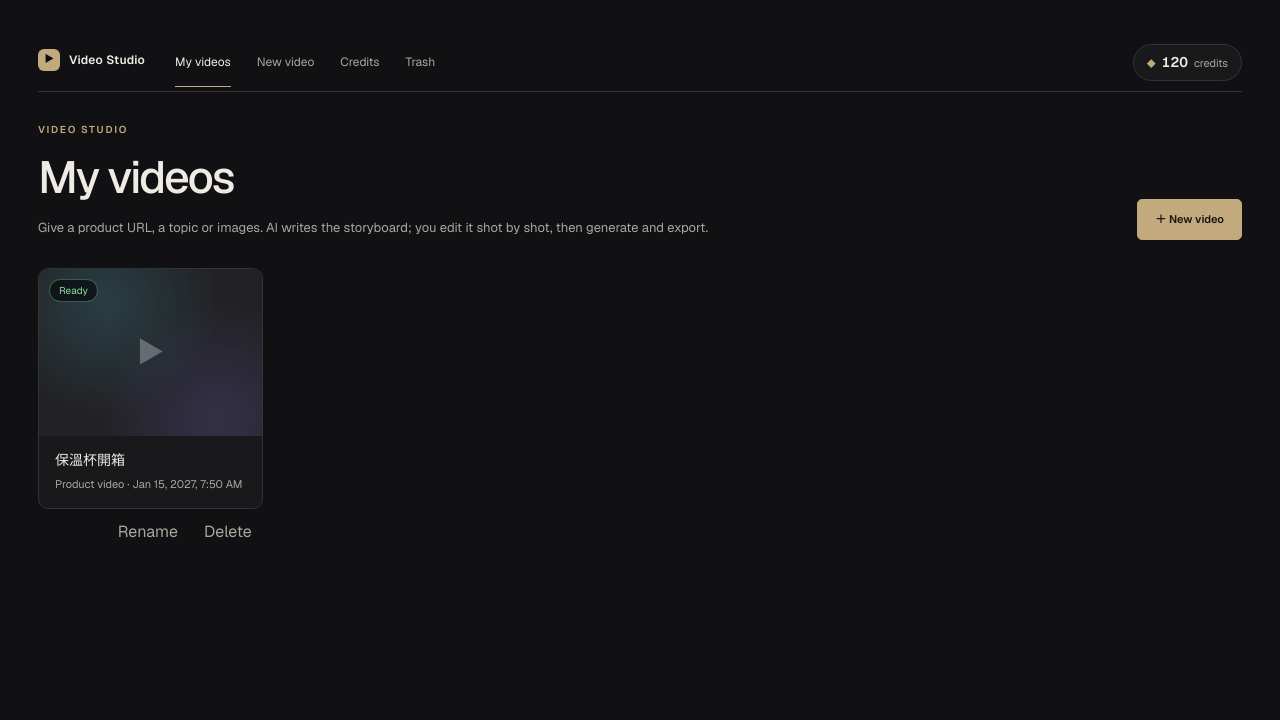
Test case: delete from the list › explains in English too
Click the button with aria-label "Delete “保溫杯開箱”".
click(228, 532)  # box [193,515,263,549]
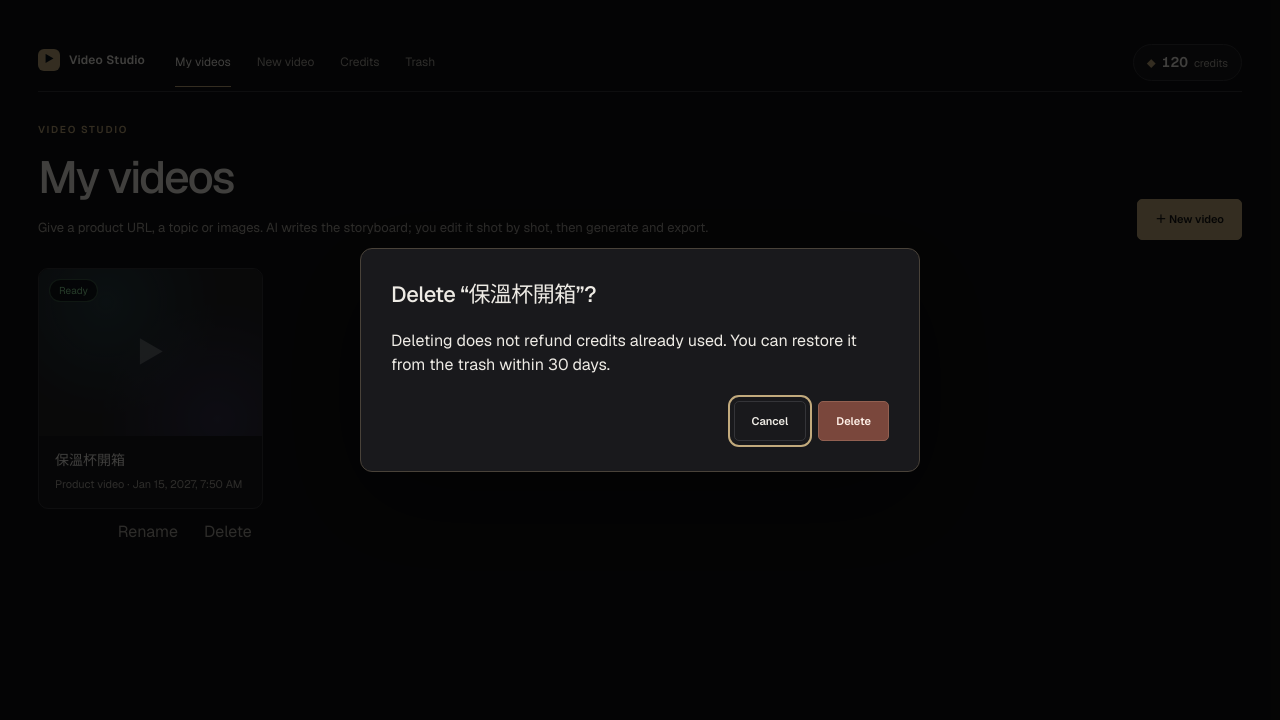
Check: the dialog shows "Deleting does not refund credits already used. You can restore it from the trash within 30 days.", box [391,330,857,375]
